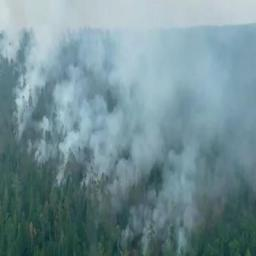Heavy smoke: (53, 78, 231, 140)
Low smoke: (160, 144, 205, 252), (85, 144, 154, 204), (18, 36, 46, 132), (3, 3, 26, 59)
